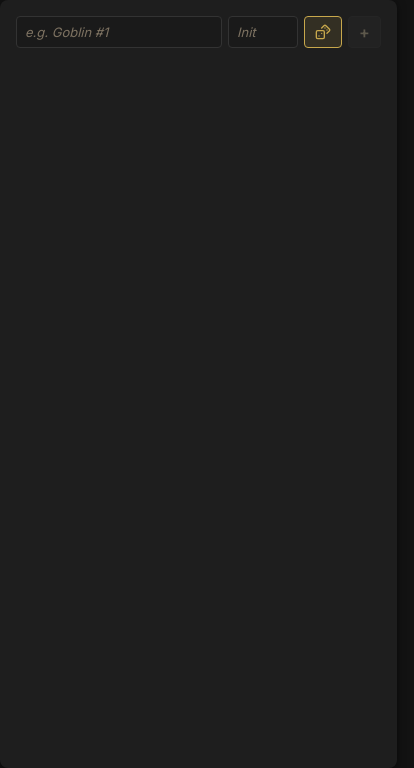
InitiativeTracker — Roll Initiative fills input before commit › populates the initiative input with the formula result on roll
Check: the number field with placeholder "Init" is empty, box [228,16,298,48]
Click the button named "roll initiative": click(323, 32) [304,16,342,48]
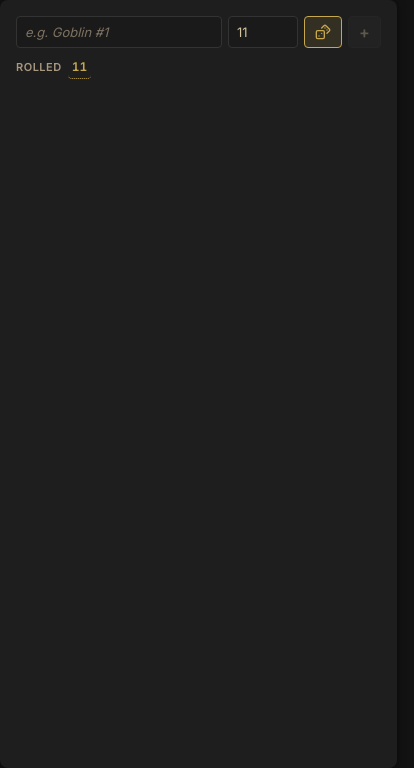
Check: the number field with placeholder "Init" holds "11", box [228,16,298,48]
